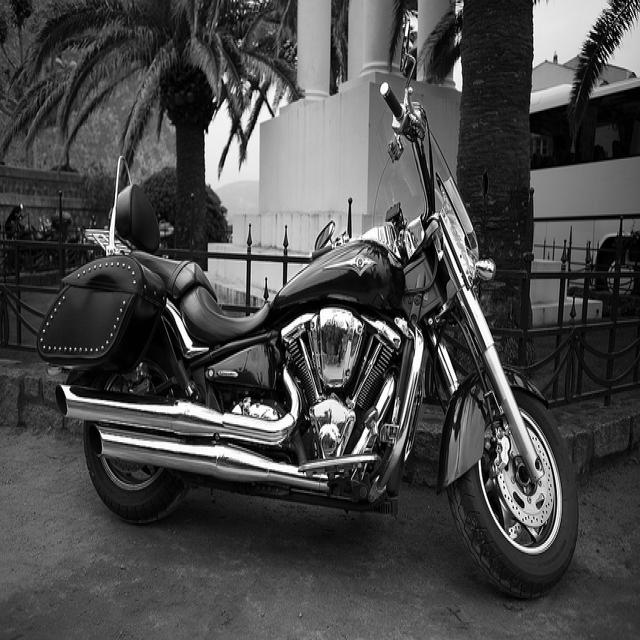motor: (35, 69, 581, 600)
